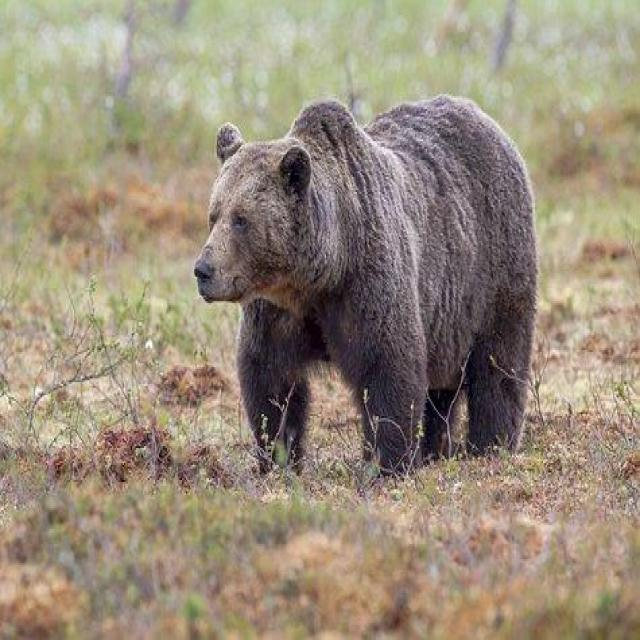Bear: (193, 94, 539, 478)
